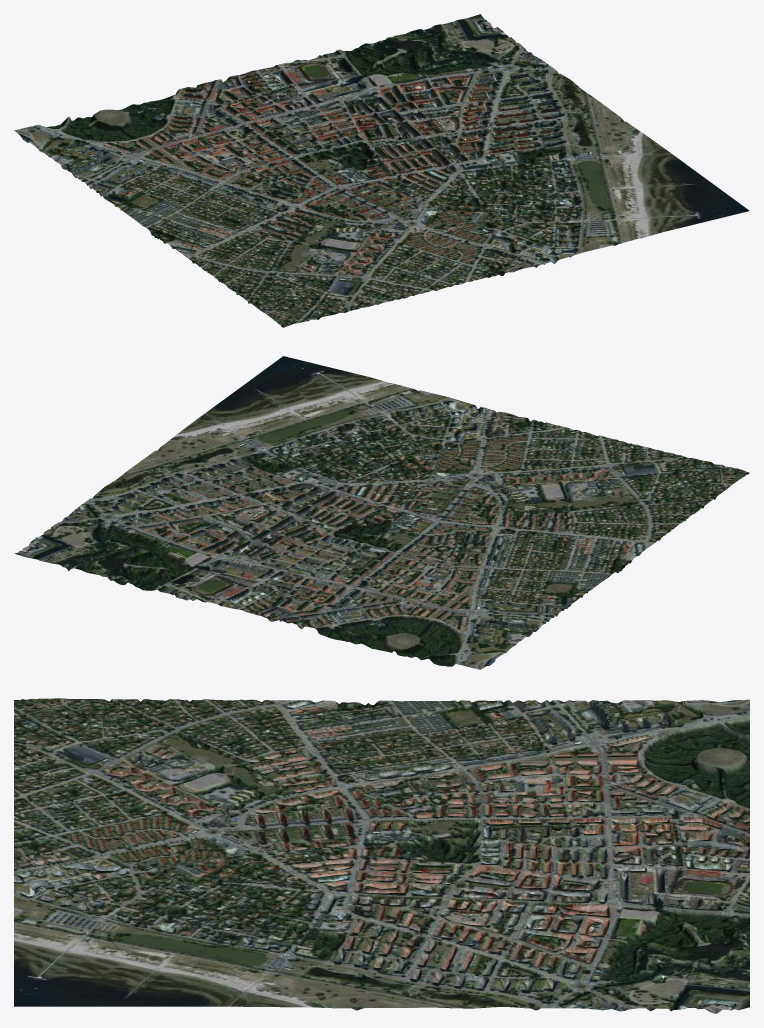
File: map_10_250_424.dae
3 views of the same model, one above another, from view 1: azimuth 30°, elevation 25°; view 2: azimuth 150°, elevation 25°; view 3: azimuth 270°, elevation 25° (orthographic). The views are drawn at different scales.
Visible parts, largest first — view 1: Ter0; view 2: Ter0; view 3: Ter0.
Boxes of the visible parts, x1,y1,x2,y2 form: Ter0: (14,14,749,327); Ter0: (14,356,749,669); Ter0: (14,698,749,1013).
Bounding box in the file's own units: 2044 × 2044 × 80.35.
3 materials, 3 textured.
